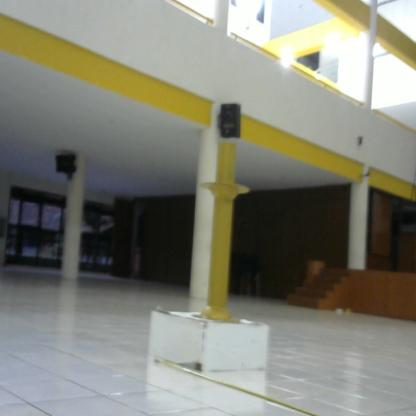pole: (195, 143, 254, 328)
